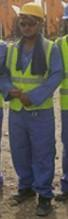hat: (10, 1, 57, 41), (58, 4, 68, 34)
vest: (5, 29, 53, 107), (56, 30, 68, 118)
